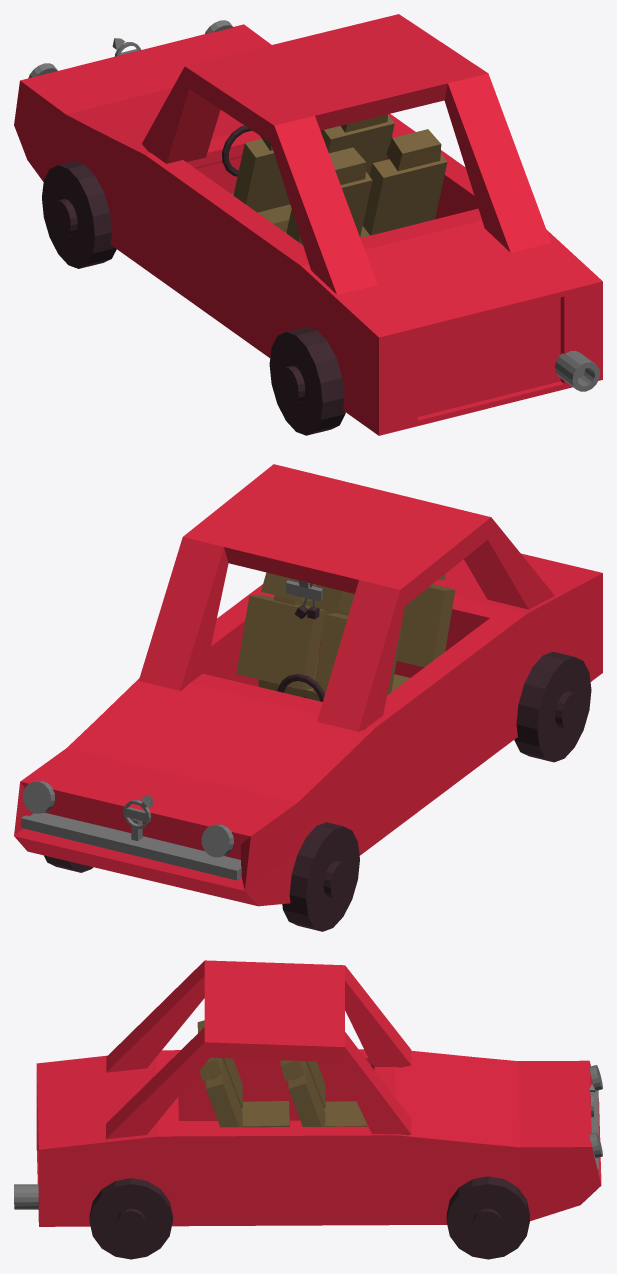
The model's file is obj_car_.fbx.
The picture shows the model from 3 angles, top to bottom: view 1: azimuth 30°, elevation 25°; view 2: azimuth 150°, elevation 25°; view 3: azimuth 270°, elevation 25°; orthographic projection. The views are drawn at different scales.
Parts seen in each view (by area): view 1: Cube.008; view 2: Cube.008; view 3: Cube.008.
Boxes of the visible parts, <box> form: Cube.008: <box>14,14,602,435</box>; Cube.008: <box>14,464,602,931</box>; Cube.008: <box>14,960,602,1259</box>.
Size of the model in its own units: 213 by 196 by 501.
